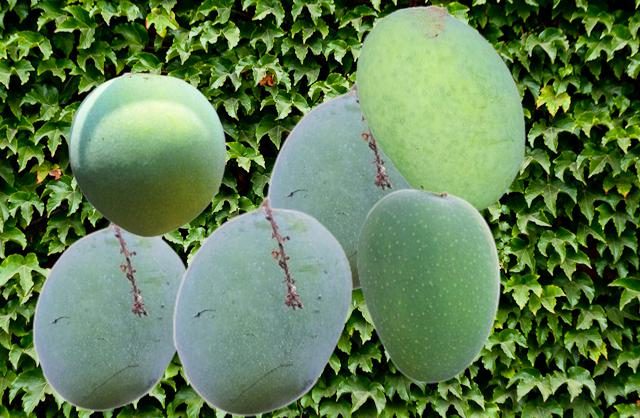green_mango: (172, 196, 352, 415), (356, 4, 524, 211), (266, 80, 408, 291), (32, 222, 186, 410), (356, 188, 500, 382), (68, 71, 225, 236)
